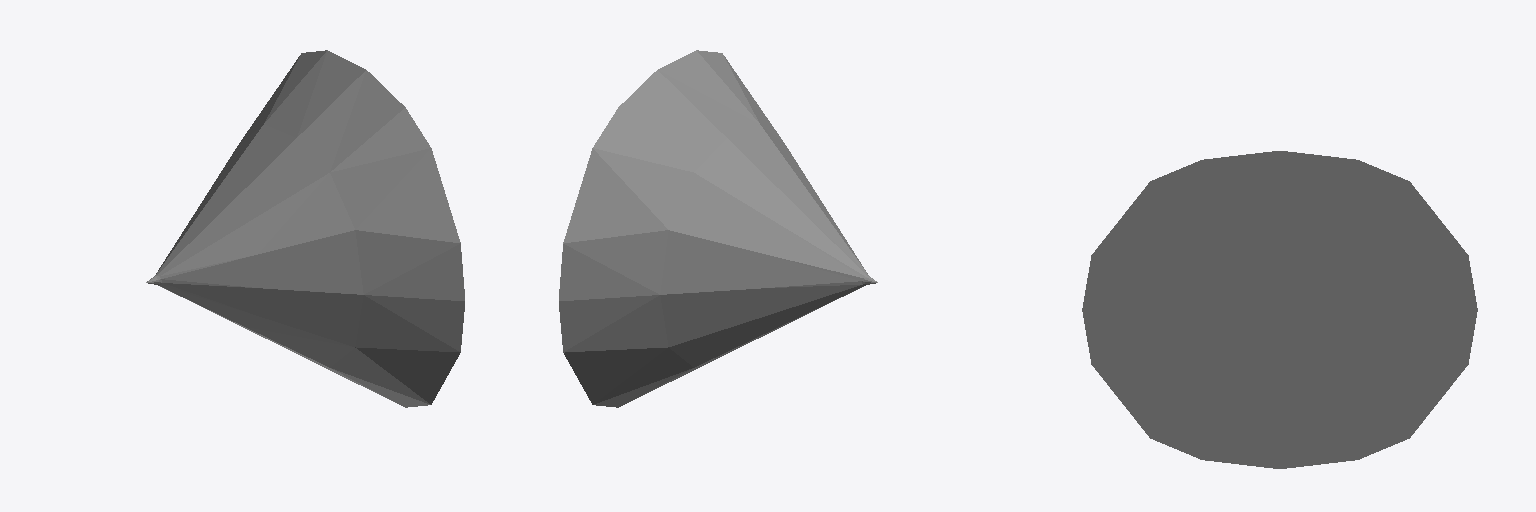
File: livox_avia_fov.obj
3 renders of one model, left to right at view 1: azimuth 30°, elevation 25°; view 2: azimuth 150°, elevation 25°; view 3: azimuth 270°, elevation 25°, orthographic.
Parts seen in each view (by area): view 1: 1; view 2: 1; view 3: 1.
Part boxes in pixels (x1,y1,x2,y2): 1: (146,50,464,407); 1: (559,50,877,407); 1: (1082,151,1477,468).
Size of the model in its own units: 855 by 1178 by 1326.